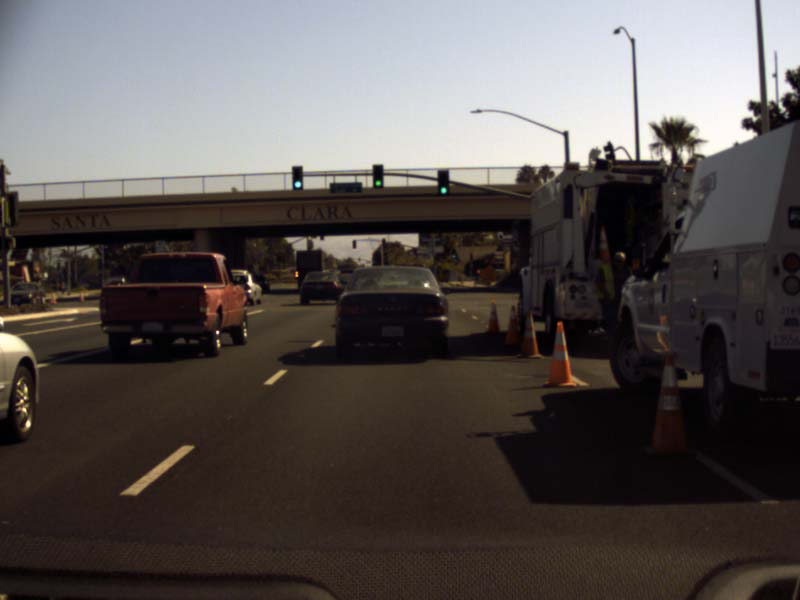Green: (437, 170, 449, 194), (371, 163, 382, 188), (291, 165, 302, 189)
